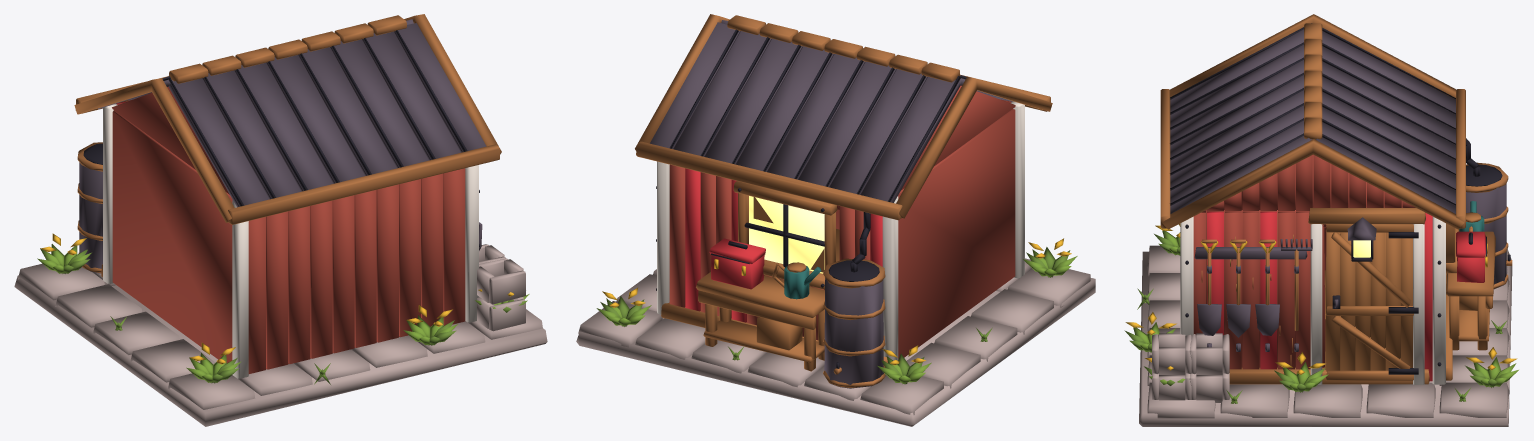
3 renders of one model, left to right at view 1: azimuth 30°, elevation 25°; view 2: azimuth 150°, elevation 25°; view 3: azimuth 270°, elevation 25°, orthographic. The views are drawn at different scales.
Parts seen in each view (by area): view 1: body, roof; view 2: body, roof, emitter:window_side:10; view 3: body, roof, door_main, emitter:root:16.
Part boxes in pixels (x1,y1,x2,y2): body: (14, 86, 547, 426); roof: (74, 14, 501, 224); body: (576, 85, 1095, 426); roof: (635, 14, 1052, 220); emitter:window_side:10: (749, 196, 824, 273); body: (1124, 138, 1518, 426); roof: (1160, 14, 1465, 229); door_main: (1325, 224, 1418, 380); emitter:root:16: (1347, 217, 1376, 261).
Size of the model in its own units: 4.7 by 3.57 by 4.76.
